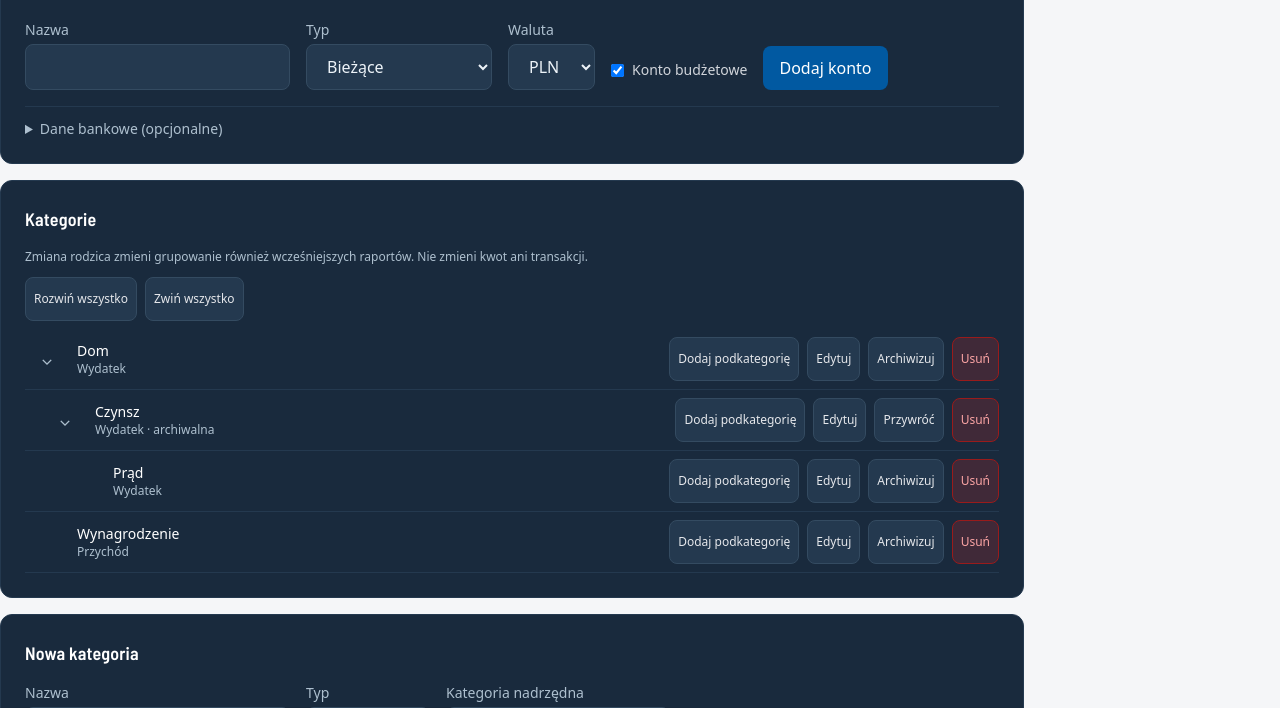
Scenario: FinanceAccounts › drzewo zachowuje aktywnego potomka archiwalnej kategorii i pozwala je zwinąć
The image size is (1280, 708).
(page scrolled)
Expected: the text "Prąd" is shown, [113,463,143,482]
Click the button named "Zwiń Dom": coordinates (47, 359) [25,337,69,381]
(page scrolled)
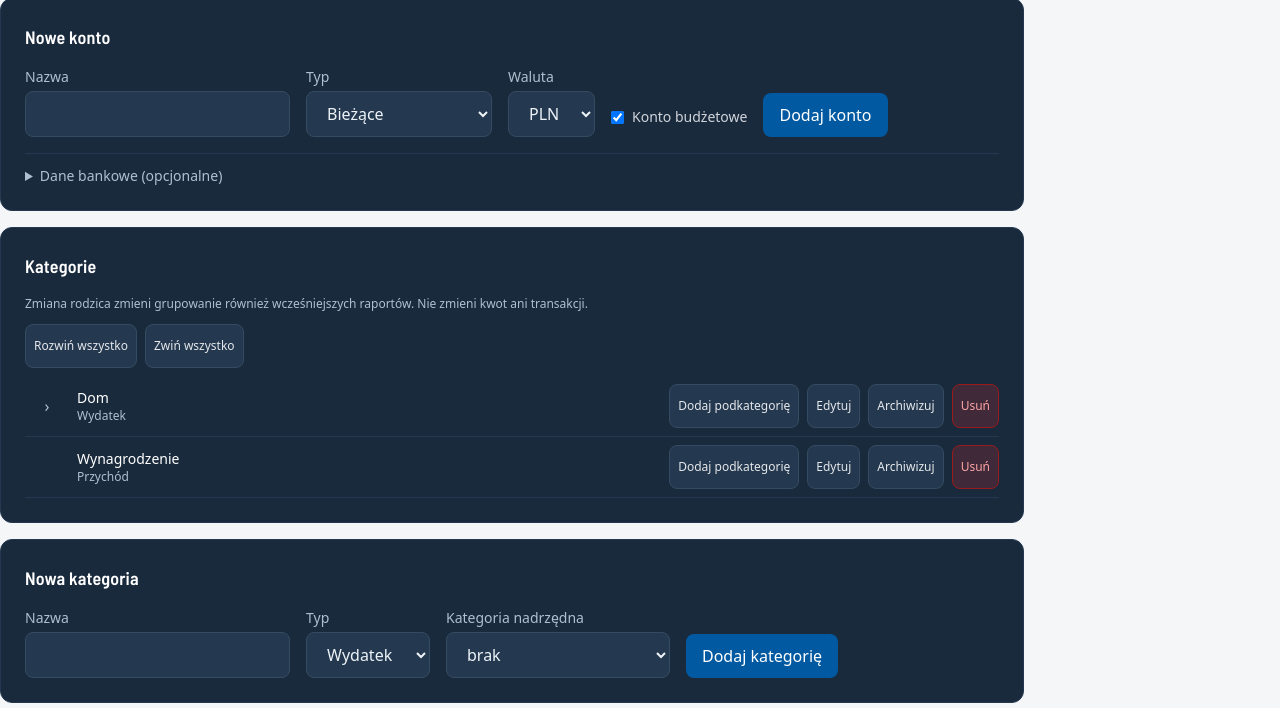
Now the text "Czynsz" is gone
Now the text "Prąd" is gone
Click the button named "Rozwiń Dom": coordinates (47, 406) [25,384,69,428]
(page scrolled)
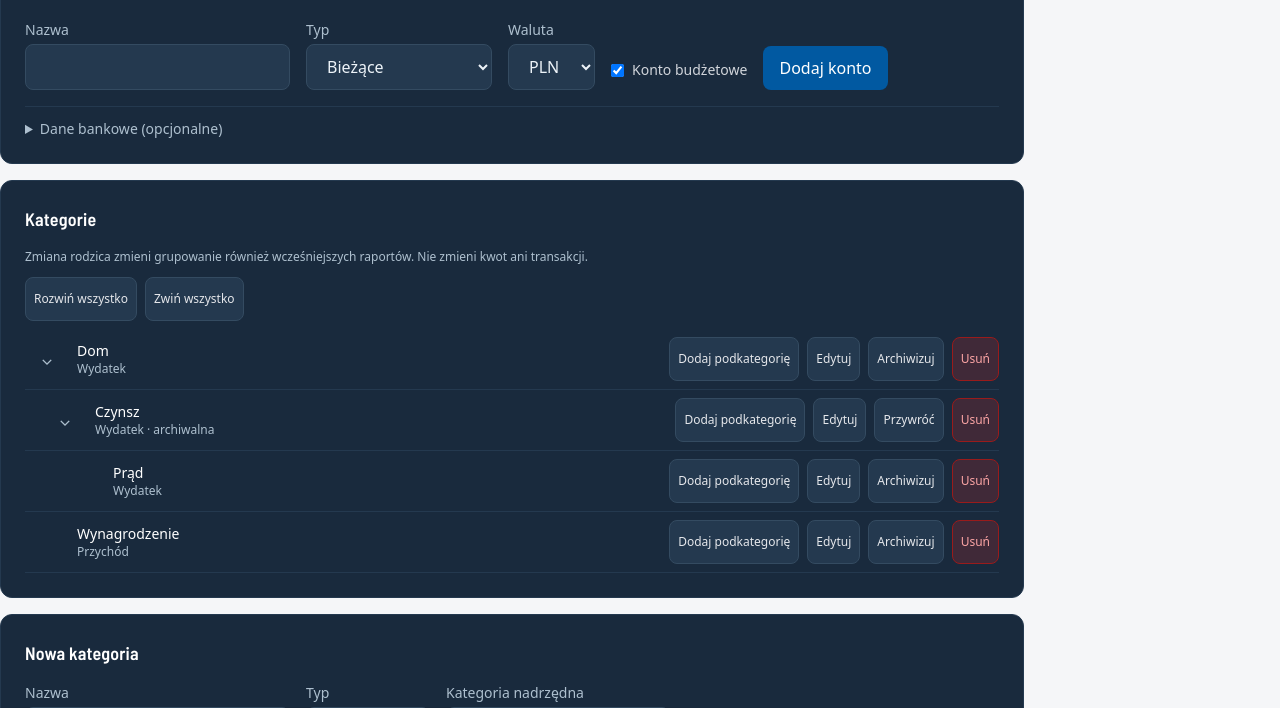
Now the text "Prąd" is shown, box [113,463,143,482]
